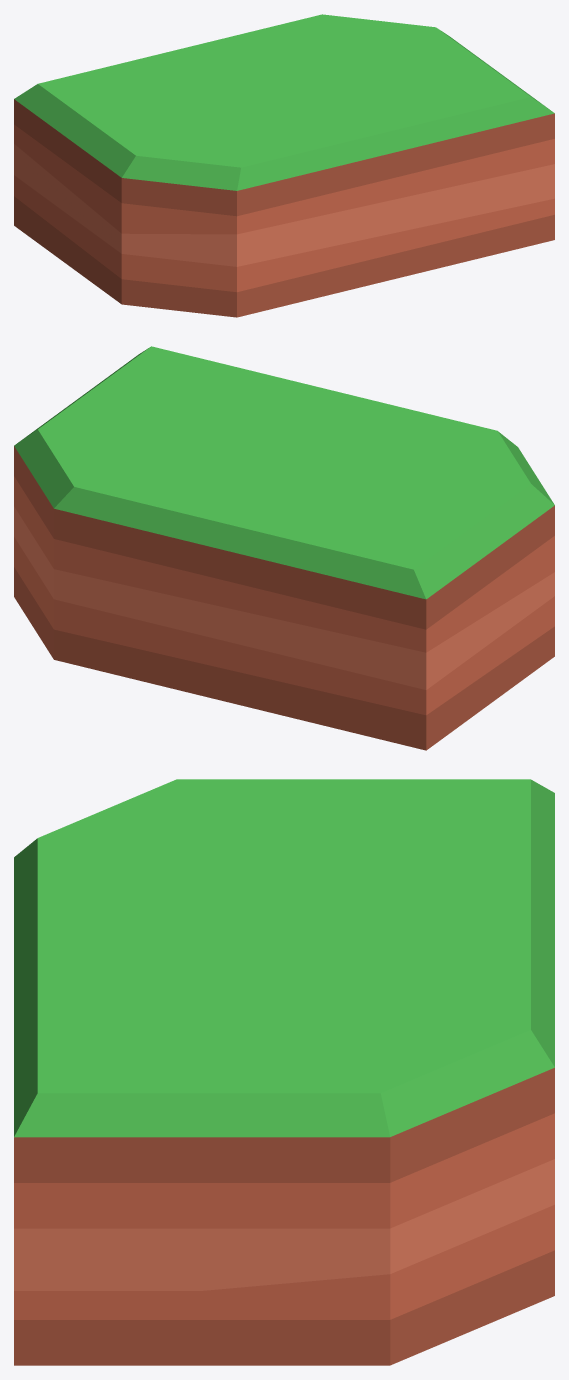
Rendered from StoneWall028.fbx.
3 renders of one model, top to bottom at view 1: azimuth 30°, elevation 25°; view 2: azimuth 150°, elevation 25°; view 3: azimuth 270°, elevation 25°, orthographic. The views are drawn at different scales.
Parts seen in each view (by area): view 1: StoneWall028; view 2: StoneWall028; view 3: StoneWall028.
Boxes of the visible parts, x1,y1,x2,y2 form: StoneWall028: (14,14,554,317); StoneWall028: (14,346,554,750); StoneWall028: (14,779,554,1365).
Bounding box in the file's own units: 533 × 186 × 354.
